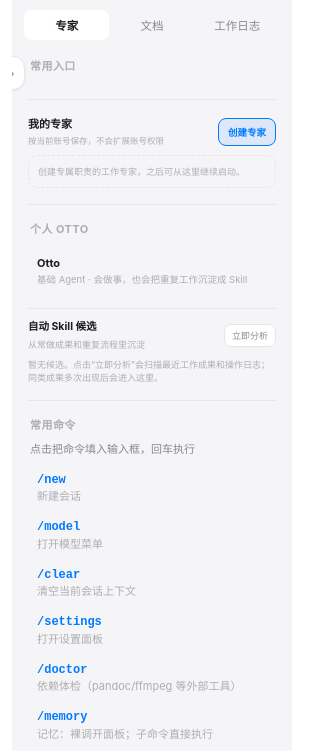
Test: RightPanel fixed Agent catalog › keeps worklog popovers inside the panel on the left and right calendar edges
Click the tab "工作日志": (237, 25) top-left (195, 10), bottom-right (280, 40)
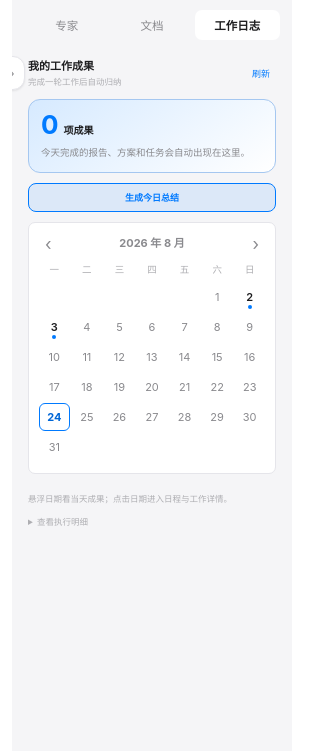
expect the button "3" is shown: met, box top-left (39, 313), bottom-right (70, 341)
expect the button "2" is shown: met, box top-left (234, 283), bottom-right (265, 311)
